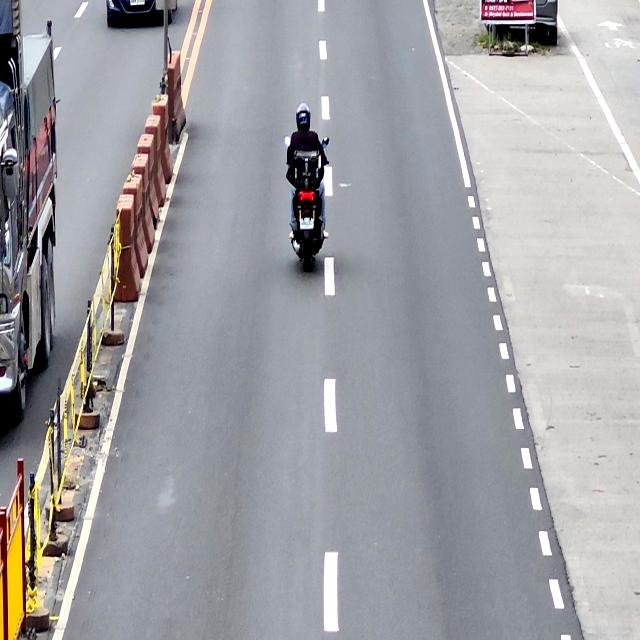License-Plate: (299, 217, 314, 231)
Motorcycle: (284, 134, 329, 273)
